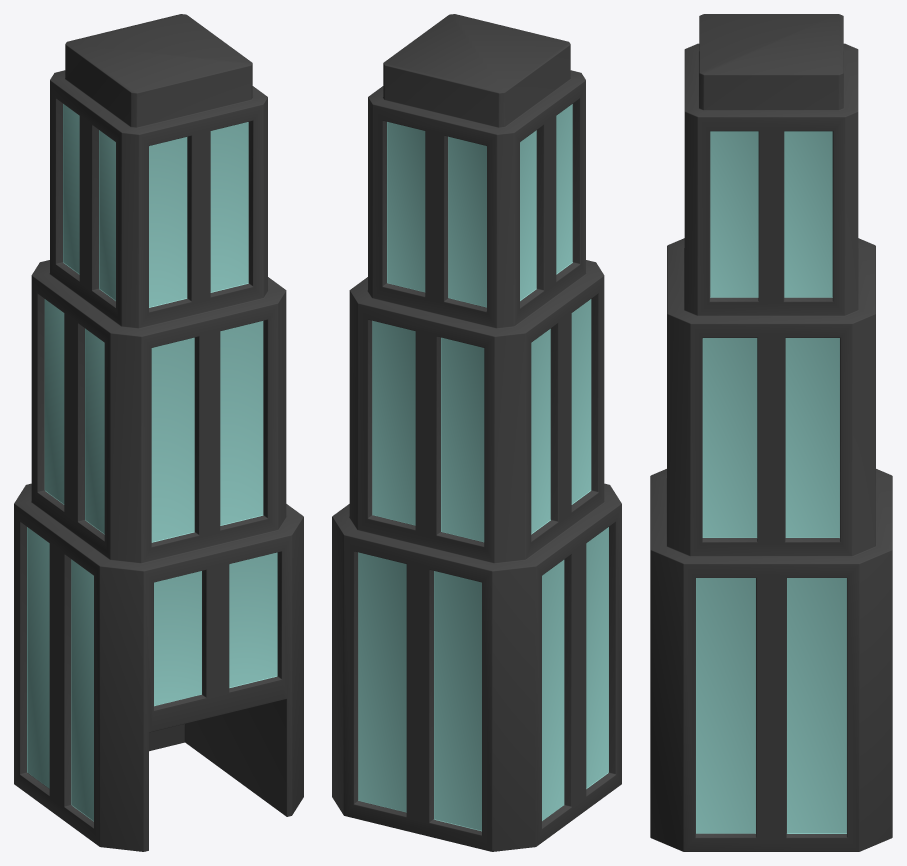
File: Tall_Blocky_Building_08.fbx
The picture shows the model from 3 angles, left to right: view 1: azimuth 30°, elevation 25°; view 2: azimuth 150°, elevation 25°; view 3: azimuth 270°, elevation 25°; orthographic projection. The views are drawn at different scales.
Parts seen in each view (by area): view 1: Cube; view 2: Cube; view 3: Cube.
Boxes of the visible parts, x1,y1,x2,y2 form: Cube: [14, 14, 303, 851]; Cube: [332, 14, 621, 851]; Cube: [650, 14, 892, 851].
Size of the model in its own units: 1190 by 4104 by 1190.
